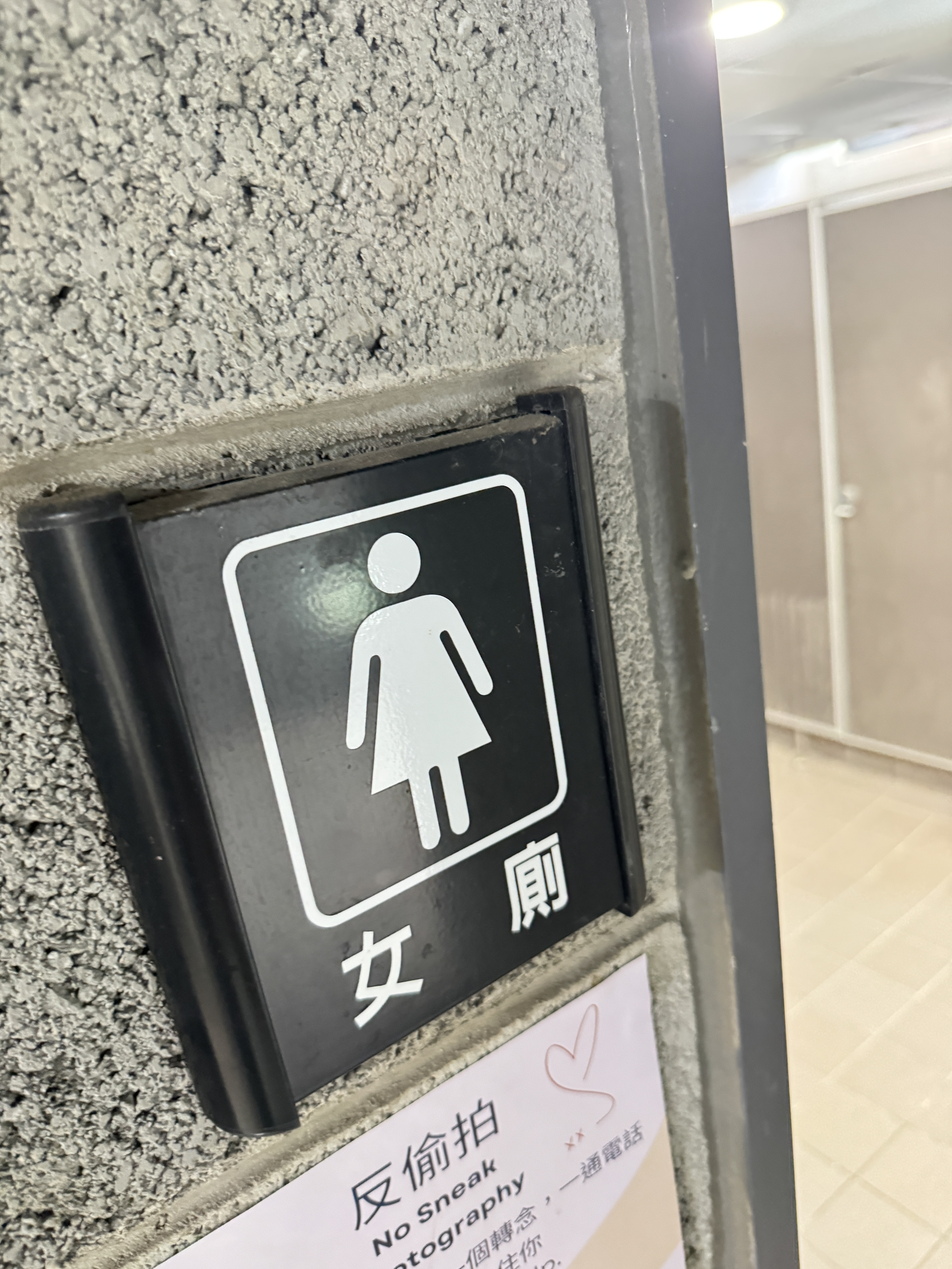toilet_sign: (12, 399, 682, 1135), (86, 399, 648, 1040)
